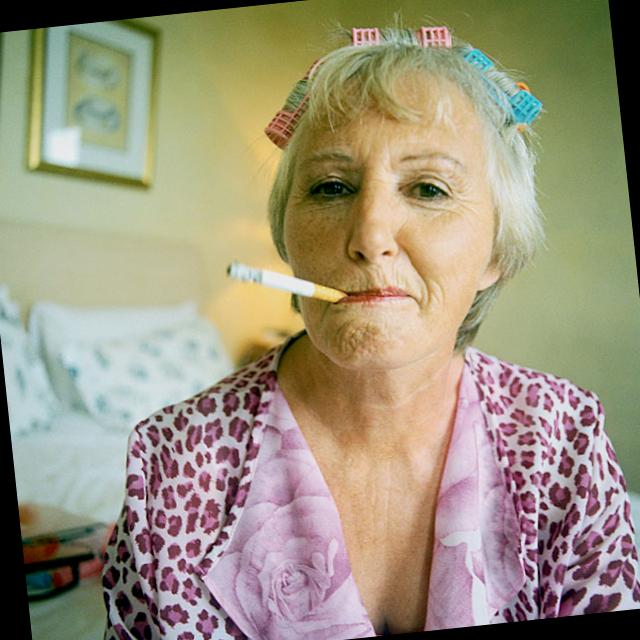smoke: (224, 249, 342, 315)
